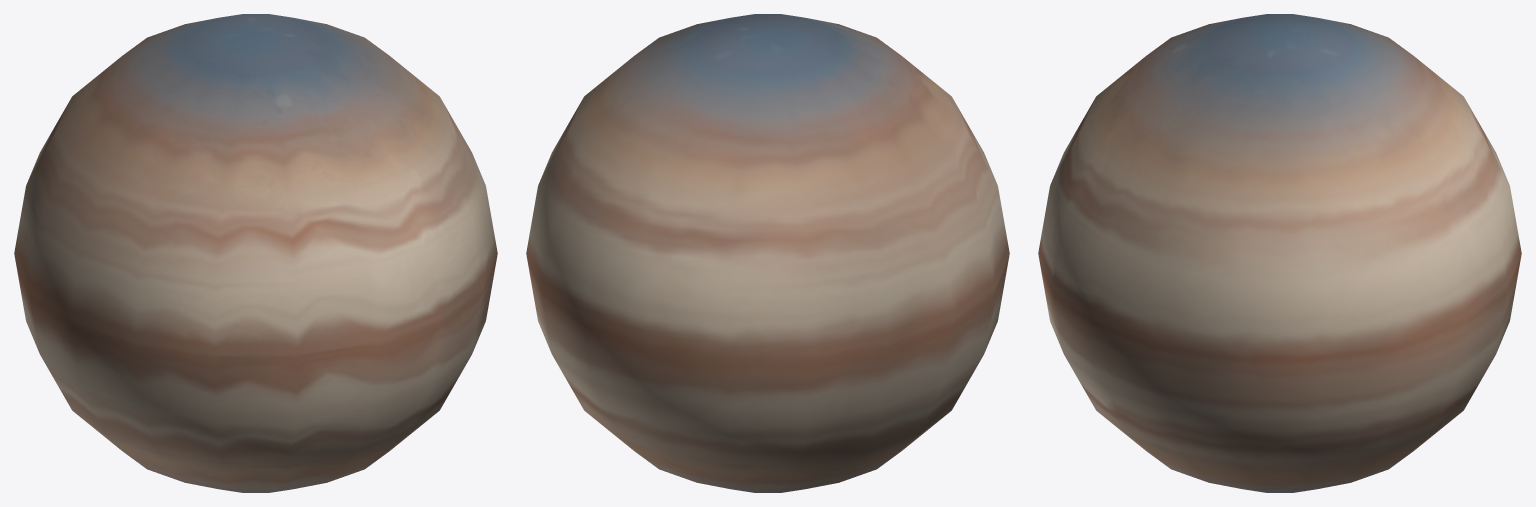
The model's file is Planet_Jupiter.fbx.
3 renders of one model, left to right at view 1: azimuth 30°, elevation 25°; view 2: azimuth 150°, elevation 25°; view 3: azimuth 270°, elevation 25°, orthographic.
Parts seen in each view (by area): view 1: Planet_Jupiter; view 2: Planet_Jupiter; view 3: Planet_Jupiter.
Boxes of the visible parts, x1=… form: Planet_Jupiter: x1=14, y1=14, x2=497, y2=492; Planet_Jupiter: x1=526, y1=14, x2=1009, y2=492; Planet_Jupiter: x1=1038, y1=14, x2=1521, y2=492.
Size of the model in its own units: 197 by 200 by 200.
